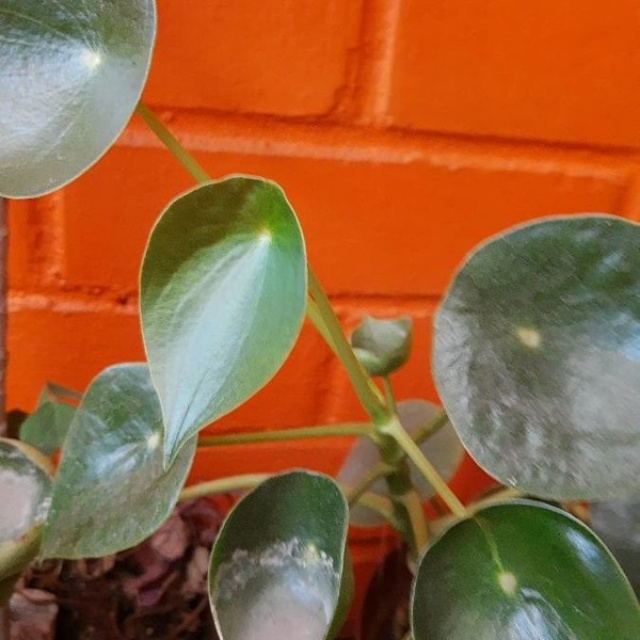obstacle: (6, 12, 587, 615)
